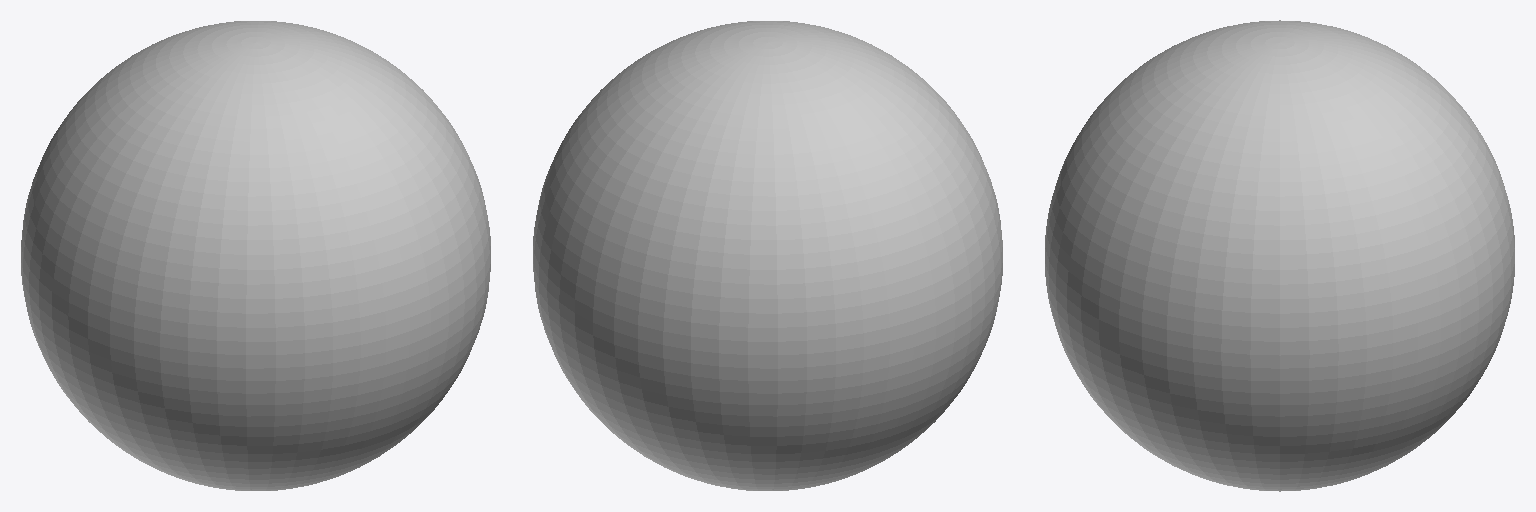
File: Uranus.obj
3 renders of one model, left to right at view 1: azimuth 30°, elevation 25°; view 2: azimuth 150°, elevation 25°; view 3: azimuth 270°, elevation 25°, orthographic.
Visible parts, largest first — view 1: pSphere9; view 2: pSphere9; view 3: pSphere9.
Part boxes in pixels (bbox=[...]): pSphere9: bbox=[21, 21, 490, 490]; pSphere9: bbox=[533, 21, 1002, 490]; pSphere9: bbox=[1045, 20, 1514, 491].
Bounding box in the file's own units: 3 × 3 × 2.99.